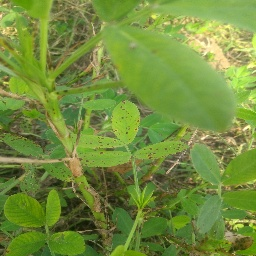GroundNut_Leaf: (100, 26, 237, 130), (154, 1, 256, 25), (1, 193, 43, 231), (191, 142, 221, 187), (225, 151, 256, 184), (197, 195, 221, 237), (93, 1, 138, 22), (75, 151, 134, 167), (137, 142, 185, 160), (1, 237, 43, 256), (47, 235, 85, 255), (45, 187, 61, 230), (140, 216, 170, 238), (225, 190, 256, 208), (111, 209, 131, 231), (113, 133, 133, 147)
